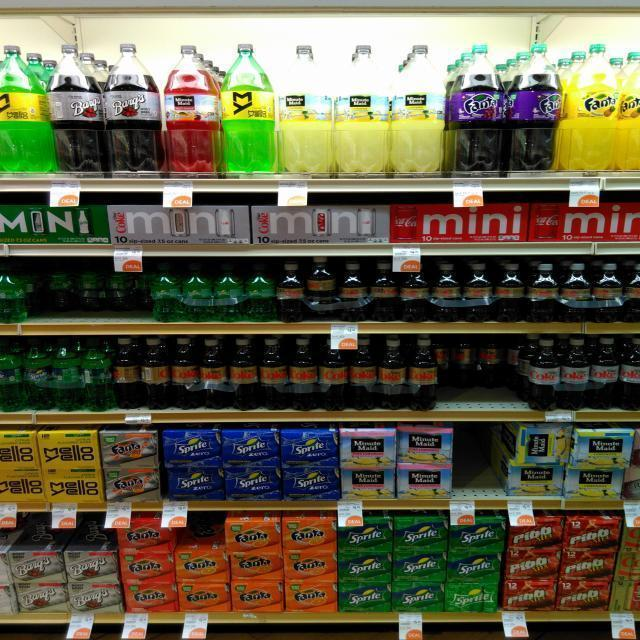Imprecise: (30, 252, 146, 322), (436, 328, 530, 410)
